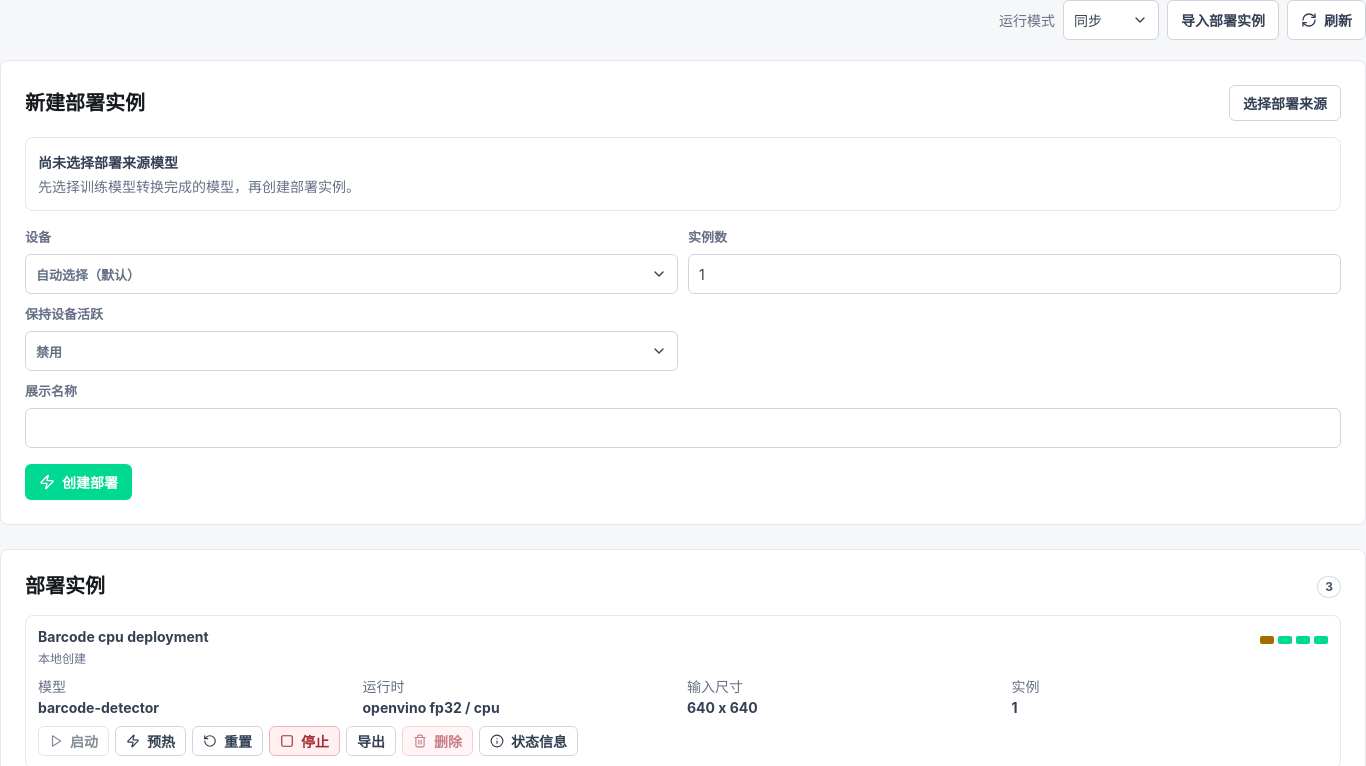
Test: DeploymentOperationsPage › moves keep-warm details out of deployment cards and into the status drawer
The width and height of the screenshot is (1366, 766).
Check: the text "保持设备活跃" is not shown
Click the button "状态信息" at {"x": 528, "y": 741}, box [479, 726, 578, 756]
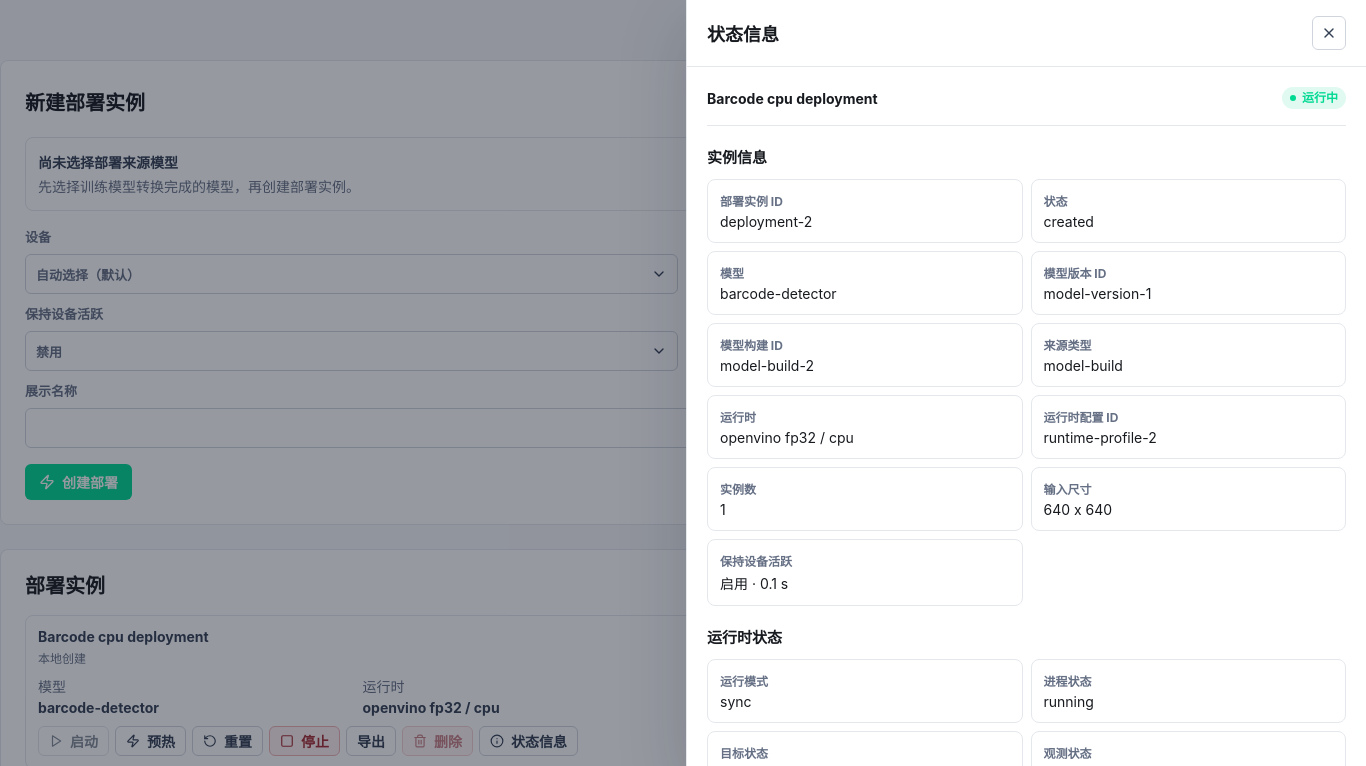
Check: the text "启用 · 0.1 s" is shown, box [720, 575, 788, 592]
